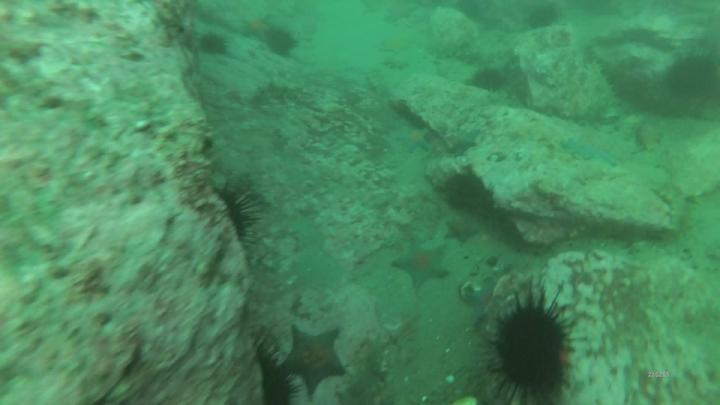echinus: (496, 298, 566, 400), (672, 54, 718, 98), (475, 68, 507, 90), (269, 27, 296, 53), (201, 33, 229, 57)
scallop: (461, 280, 483, 304)
starfish: (282, 328, 348, 394), (394, 240, 450, 286), (560, 137, 616, 165), (394, 126, 432, 154), (448, 129, 481, 153)
